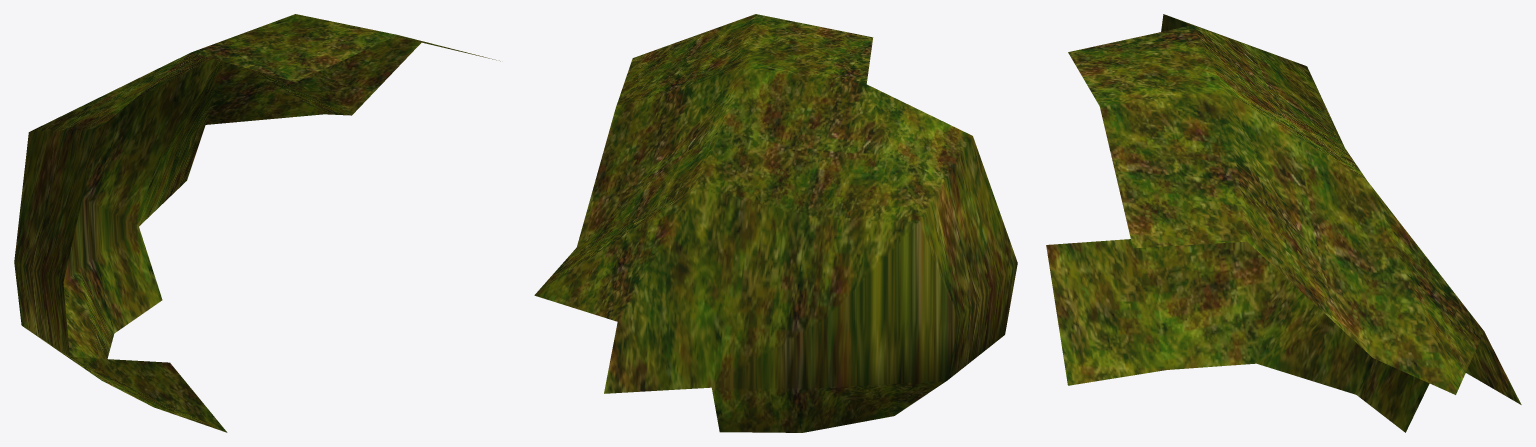
Rendered from TROLLHOLE02_BOX328.fbx.
3 views of the same model, side by side, from view 1: azimuth 30°, elevation 25°; view 2: azimuth 150°, elevation 25°; view 3: azimuth 270°, elevation 25° (orthographic). The views are drawn at different scales.
Visible parts, largest first — view 1: TROLLHOLE02_BOX328; view 2: TROLLHOLE02_BOX328; view 3: TROLLHOLE02_BOX328.
Part boxes in pixels (x1=…): TROLLHOLE02_BOX328: x1=14, y1=14, x2=500, y2=432; TROLLHOLE02_BOX328: x1=534, y1=14, x2=1017, y2=432; TROLLHOLE02_BOX328: x1=1046, y1=14, x2=1521, y2=432.
Bounding box in the file's own units: 63088 × 47304 × 53761.
1 material, 1 textured.
